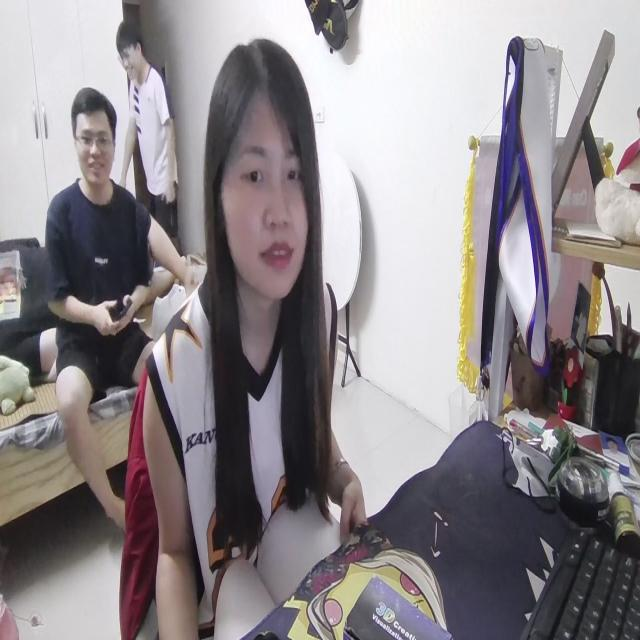book: (209, 481, 347, 640)
extra_person: (42, 82, 154, 552), (114, 15, 179, 246)
student: (140, 28, 366, 640)
